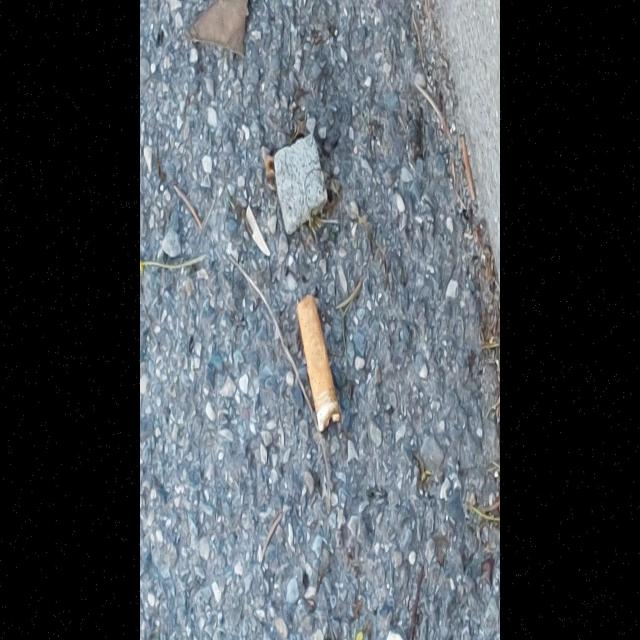other waste: (296, 293, 342, 434)
